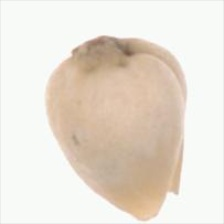L1: (70, 35, 134, 63), (136, 185, 180, 221)
L2: (44, 35, 187, 220)
